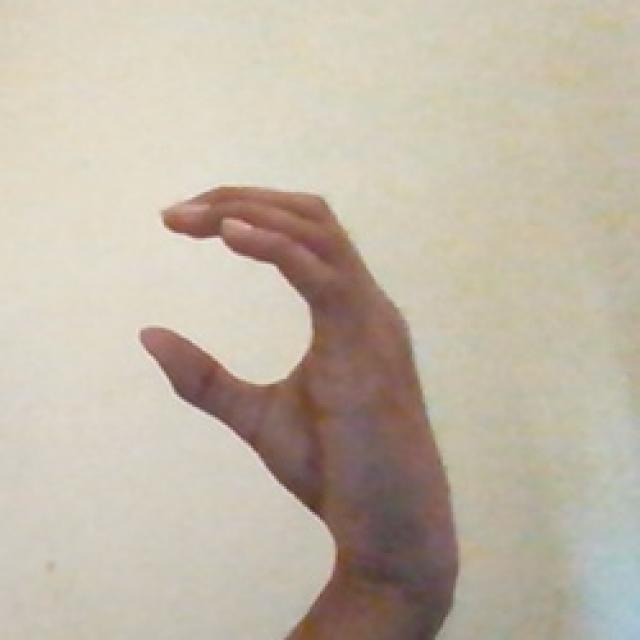Alphabet-C: (138, 174, 436, 543)
